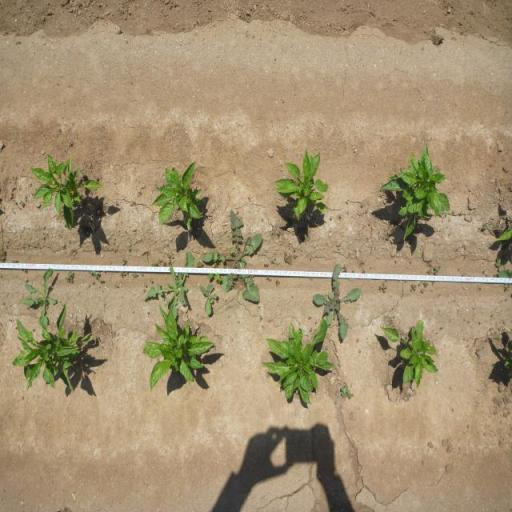plant: (10, 301, 94, 397), (378, 145, 453, 237), (141, 304, 216, 395), (262, 317, 337, 405), (30, 153, 101, 233), (272, 147, 330, 222), (378, 317, 437, 389), (149, 159, 205, 234)
weed: (198, 209, 265, 305), (310, 264, 364, 342), (145, 250, 195, 318), (22, 267, 56, 330), (198, 282, 220, 316), (208, 264, 224, 284), (282, 251, 298, 266), (340, 383, 354, 400), (64, 269, 77, 284), (378, 282, 388, 294), (167, 252, 175, 265), (494, 259, 502, 272), (88, 270, 98, 278), (118, 271, 128, 279), (409, 283, 417, 293), (434, 265, 442, 275), (440, 210, 448, 218), (158, 259, 167, 266), (195, 261, 203, 268), (341, 264, 348, 272), (275, 278, 281, 287), (152, 260, 158, 268), (266, 275, 272, 283), (263, 262, 270, 268), (482, 224, 488, 231), (98, 278, 104, 284), (132, 272, 137, 278), (424, 282, 429, 288), (122, 258, 126, 264), (143, 282, 147, 288), (364, 208, 370, 212)
